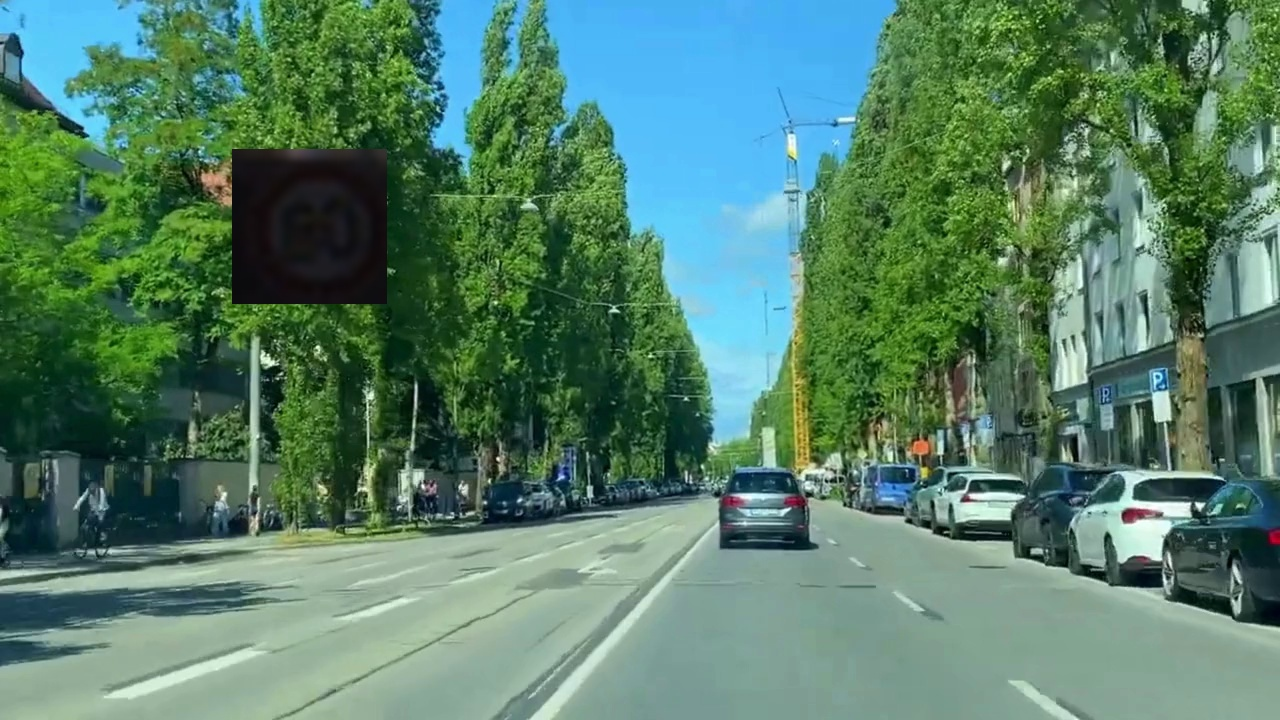Speed 80: (232, 149, 387, 304)
